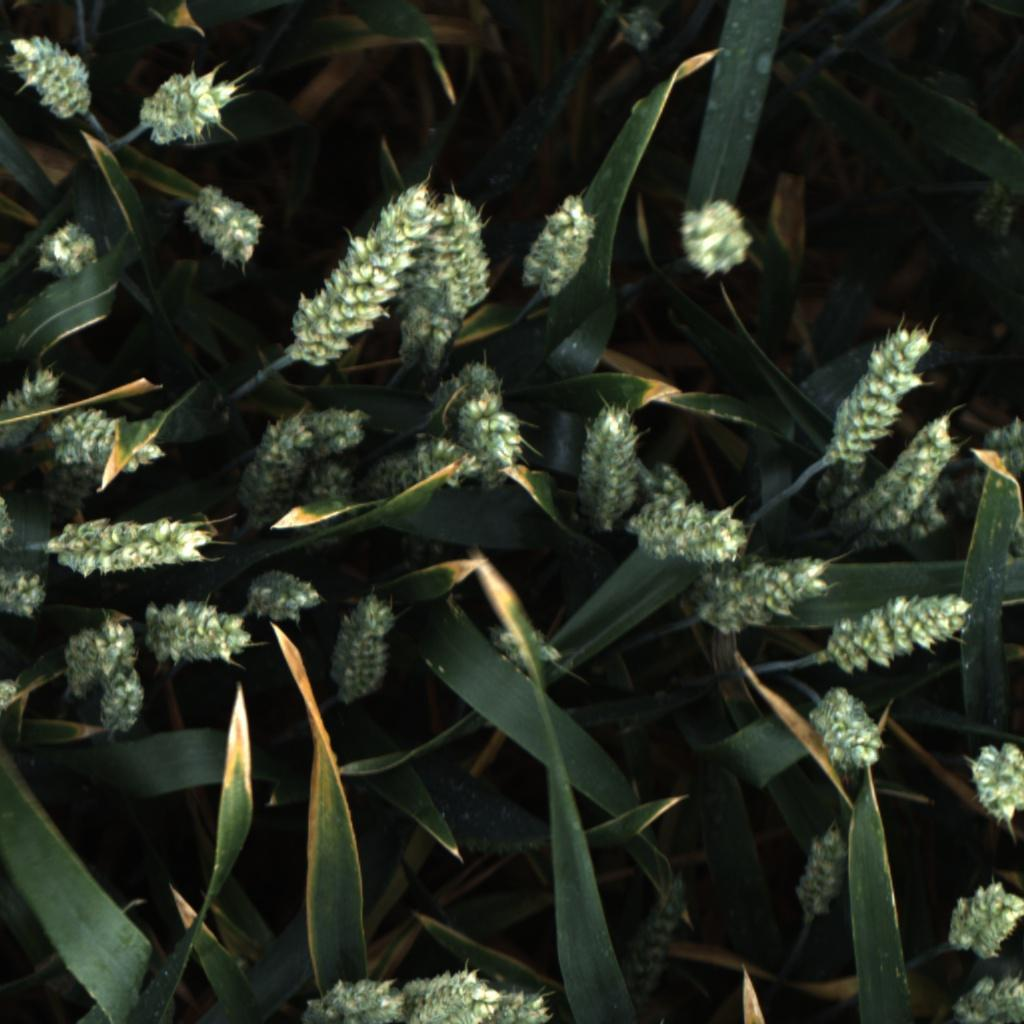0-0: (271, 175, 429, 377), (825, 412, 968, 549), (820, 321, 936, 461), (815, 586, 978, 678), (680, 551, 835, 641), (45, 510, 217, 583), (569, 401, 652, 535), (622, 492, 757, 565), (620, 870, 693, 1003), (417, 339, 516, 432), (46, 404, 168, 478), (236, 409, 314, 524), (327, 589, 404, 703), (518, 190, 600, 290), (147, 595, 254, 671), (671, 193, 759, 285), (0, 34, 92, 121), (428, 187, 502, 295), (814, 402, 883, 516), (801, 687, 890, 775), (137, 69, 240, 144), (363, 442, 474, 511), (458, 388, 528, 496), (399, 281, 476, 378), (183, 184, 264, 272), (943, 874, 1024, 961), (789, 817, 853, 926), (879, 475, 957, 556), (0, 357, 61, 454), (292, 974, 408, 1024), (408, 967, 504, 1024), (33, 447, 102, 525), (296, 395, 378, 458), (966, 739, 1024, 827), (397, 970, 491, 1023), (965, 168, 1024, 247), (32, 217, 99, 284), (244, 567, 327, 621), (288, 457, 362, 517), (490, 620, 568, 674), (980, 393, 1024, 481), (98, 666, 151, 739), (60, 626, 108, 703), (612, 4, 669, 62), (96, 610, 140, 680), (0, 562, 44, 627), (476, 989, 557, 1024), (650, 455, 696, 506), (1, 491, 21, 548), (1, 672, 19, 712)
